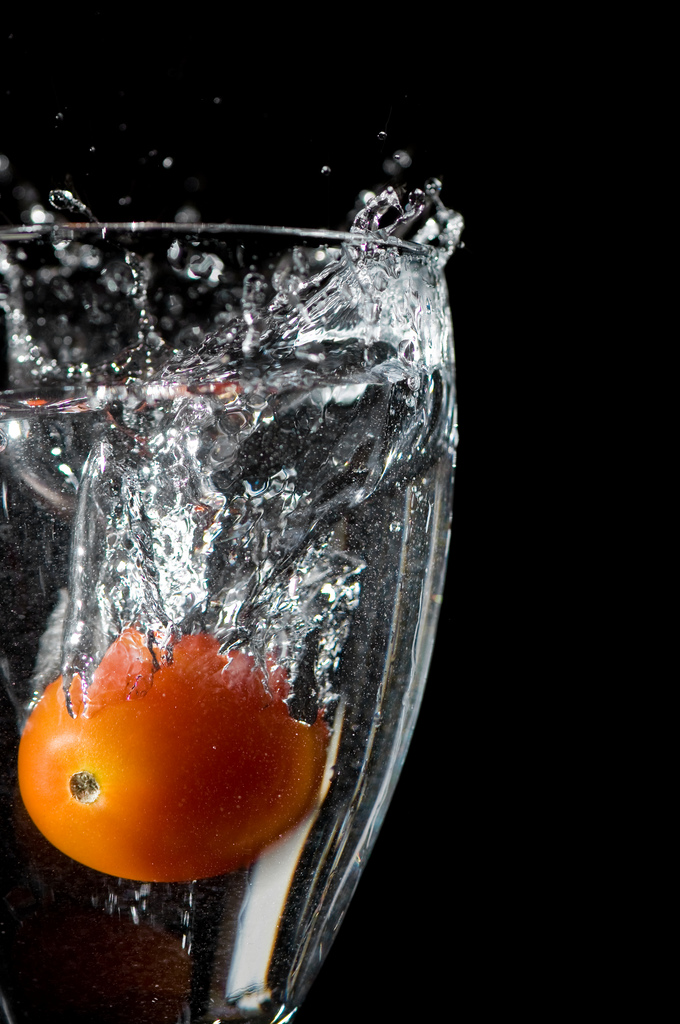glass of water: (12, 149, 468, 1024)
